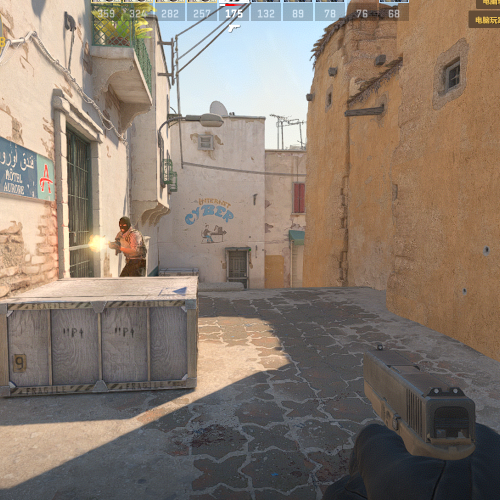t_body: (112, 217, 147, 277)
t_head: (119, 217, 131, 234)
